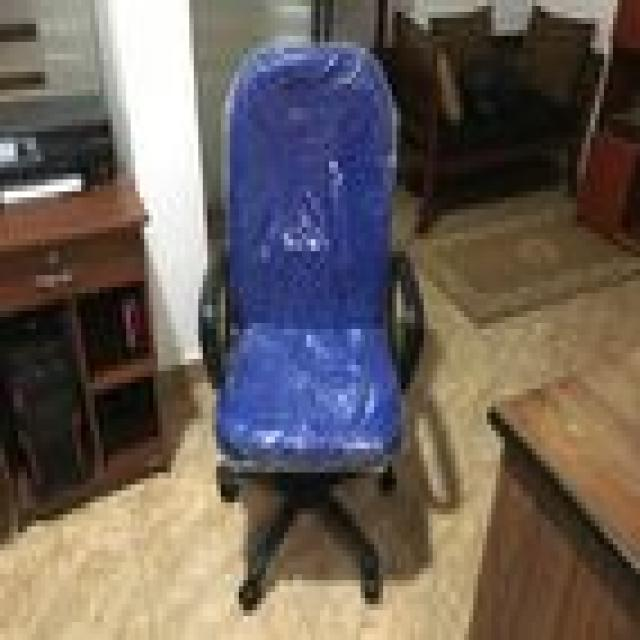others: (184, 30, 450, 622)
